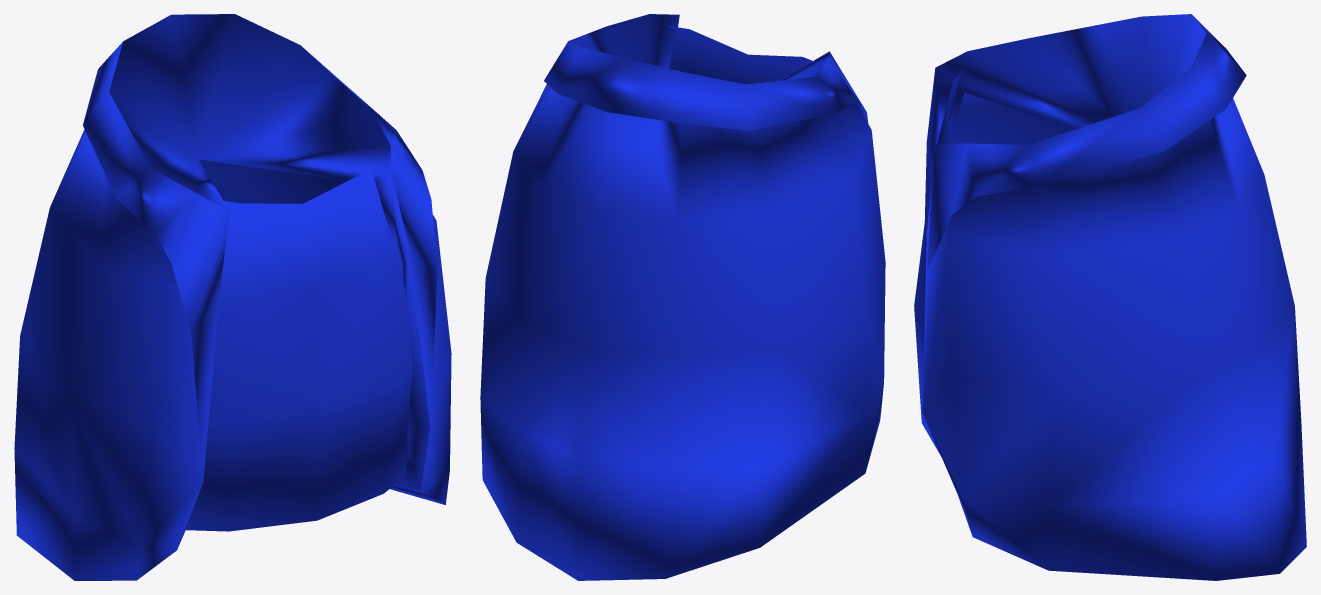
Rendered from Overcoat Body.fbx.
3 views of the same model, side by side, from view 1: azimuth 30°, elevation 25°; view 2: azimuth 150°, elevation 25°; view 3: azimuth 270°, elevation 25° (orthographic). The views are drawn at different scales.
Visible parts, largest first — view 1: OpenShirt; view 2: OpenShirt; view 3: OpenShirt.
Part boxes in pixels (x1=…): OpenShirt: x1=14, y1=14, x2=451, y2=580; OpenShirt: x1=480, y1=14, x2=885, y2=580; OpenShirt: x1=914, y1=14, x2=1306, y2=580.
Size of the model in its own units: 37.48 by 52.43 by 36.34.
